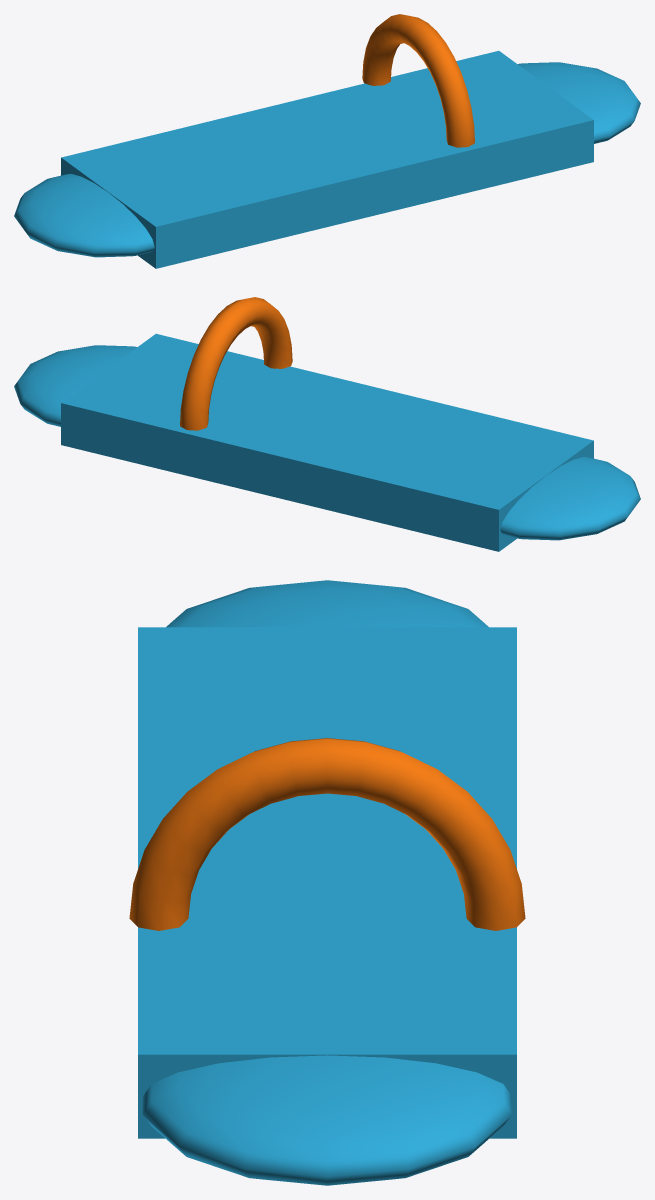
The model's file is waste_slipper.fbx.
3 renders of one model, top to bottom at view 1: azimuth 30°, elevation 25°; view 2: azimuth 150°, elevation 25°; view 3: azimuth 270°, elevation 25°, orthographic. The views are drawn at different scales.
Parts seen in each view (by area): view 1: M__waste_slipper; view 2: M__waste_slipper; view 3: M__waste_slipper.
Part boxes in pixels (bbox=[...]): M__waste_slipper: bbox=[14, 14, 640, 268]; M__waste_slipper: bbox=[14, 297, 640, 551]; M__waste_slipper: bbox=[129, 580, 525, 1185].
Bounding box in the file's own units: 0.33 × 0.072 × 0.094.
